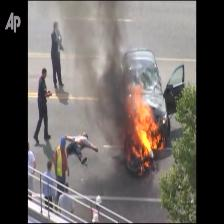fire: (116, 83, 183, 202)
smoke: (49, 0, 147, 102)
